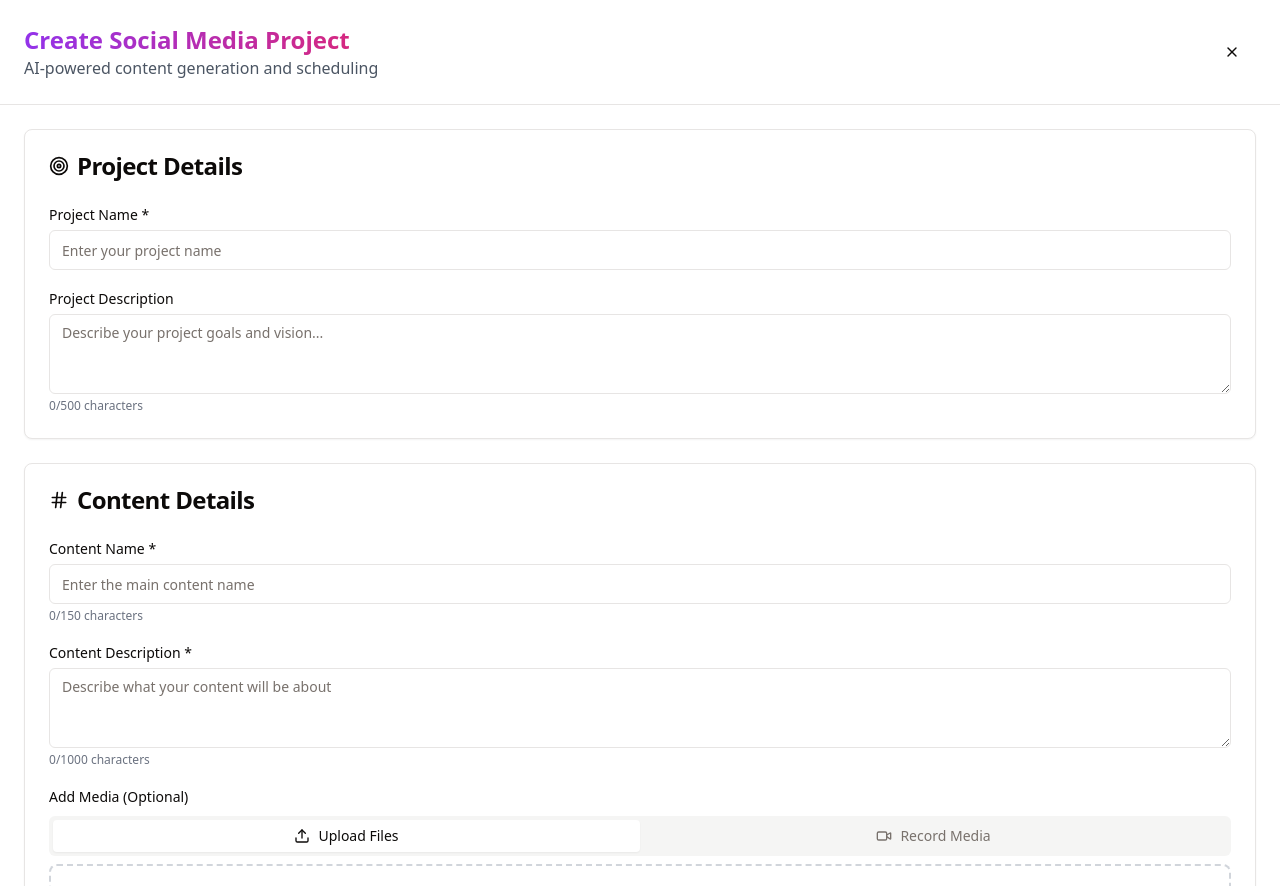
CreateProjectForm › shows character count for text fields
The width and height of the screenshot is (1280, 886).
Check: the text "0/150 characters" is shown, box [49,607,143,624]
Note: Type in content name
Step 1. Type "Test" into the field labelled "Content Name *" → (640, 584), box [49,564,1231,604]
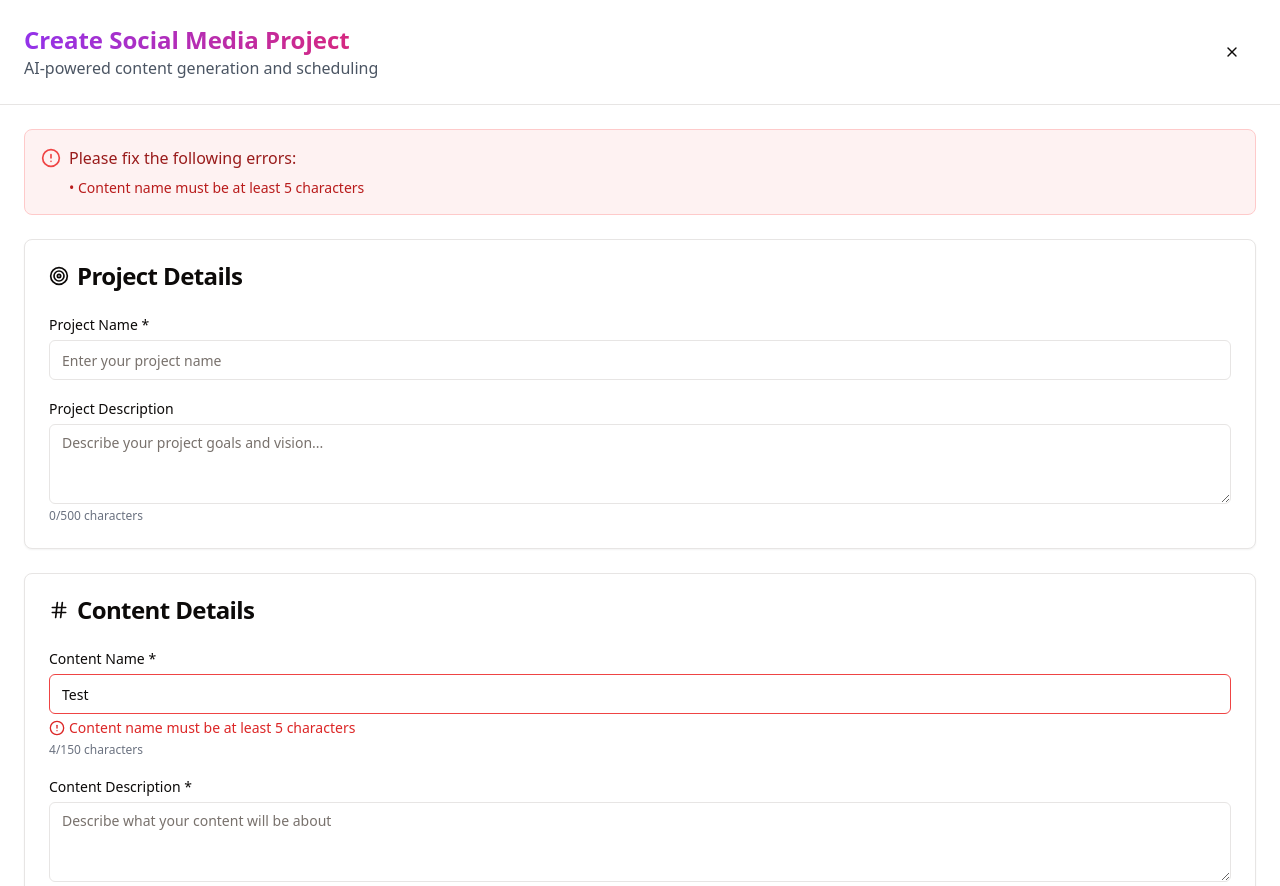
Check: the text "4/150 characters" is shown, box [49,741,143,758]
